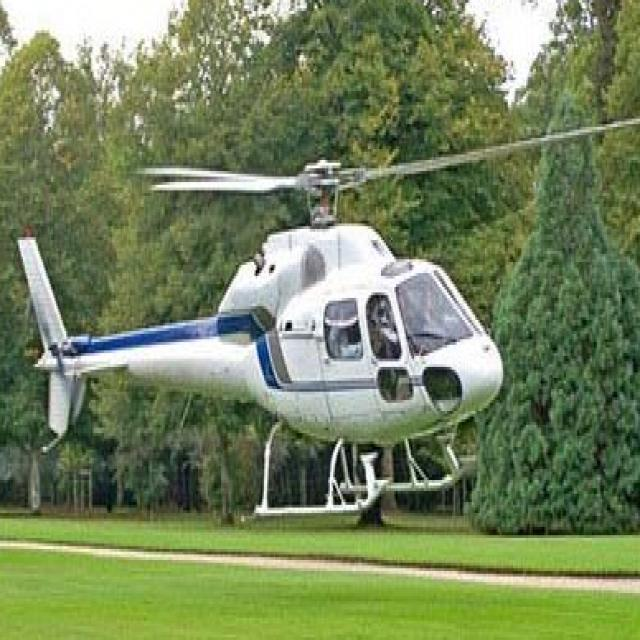helicopter: (14, 109, 640, 531)
